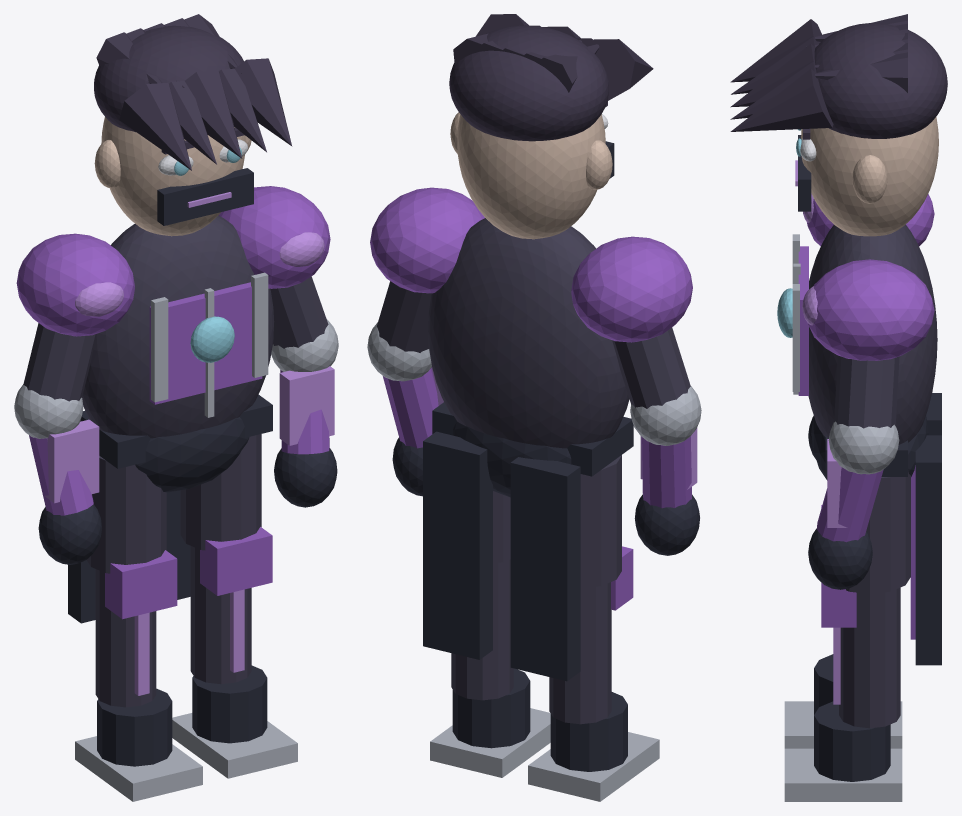
The model's file is kairo.glb.
3 views of the same model, side by side, from view 1: azimuth 30°, elevation 25°; view 2: azimuth 150°, elevation 25°; view 3: azimuth 270°, elevation 25° (orthographic). The views are drawn at different scales.
Parts seen in each view (by area): view 1: JacketTorso, Shoulder_L, HairCap, ChestPanel, Head, Thigh_L, Shoulder_R, Thigh_R, Pelvis, Shin_L, Shin_R, Boot_R (+34 smaller); view 2: JacketTorso, CoatTail_L, CoatTail_R, HairCap, Head, Shoulder_L, Shoulder_R, Shin_L, Thigh_L, Shin_R, UpperArm_L, Boot_R (+18 smaller); view 3: HairCap, Shoulder_R, Head, JacketTorso, Shin_R, CoatTail_R, Thigh_R, Boot_R, UpperArm_R, BootSole_R, FrontHairSpike4, Elbow_R (+23 smaller).
Boxes of the visible parts, bbox=[...] form: JacketTorso: bbox=[82, 215, 274, 438]; Shoulder_L: bbox=[16, 233, 134, 336]; HairCap: bbox=[94, 25, 243, 132]; ChestPanel: bbox=[149, 282, 262, 404]; Head: bbox=[101, 117, 245, 236]; Thigh_L: bbox=[87, 456, 166, 573]; Shoulder_R: bbox=[218, 186, 330, 288]; Thigh_R: bbox=[180, 434, 261, 550]; Pelvis: bbox=[135, 417, 249, 492]; Shin_L: bbox=[95, 569, 156, 707]; Shin_R: bbox=[190, 546, 251, 684]; Boot_R: bbox=[192, 665, 267, 743]; JacketTorso: bbox=[428, 218, 629, 448]; CoatTail_L: bbox=[510, 457, 580, 681]; CoatTail_R: bbox=[423, 431, 492, 659]; HairCap: bbox=[449, 25, 608, 141]; Head: bbox=[457, 114, 605, 239]; Shoulder_L: bbox=[571, 236, 692, 342]; Shoulder_R: bbox=[370, 187, 484, 293]; Shin_L: bbox=[549, 582, 611, 724]; Thigh_L: bbox=[580, 455, 621, 588]; Shin_R: bbox=[451, 559, 513, 700]; UpperArm_L: bbox=[612, 327, 690, 408]; Boot_R: bbox=[452, 668, 530, 748]; HairCap: bbox=[814, 23, 947, 138]; Shoulder_R: bbox=[808, 259, 934, 360]; Head: bbox=[801, 117, 938, 236]; JacketTorso: bbox=[808, 224, 937, 444]; Shin_R: bbox=[839, 587, 900, 728]; CoatTail_R: bbox=[915, 435, 941, 665]; Thigh_R: bbox=[846, 471, 910, 593]; Boot_R: bbox=[814, 701, 890, 781]; UpperArm_R: bbox=[834, 355, 899, 428]; BootSole_R: bbox=[784, 748, 902, 801]; FrontHairSpike4: bbox=[730, 69, 833, 131]; Elbow_R: bbox=[828, 421, 899, 474].
Bounding box in the file's own units: 1.26 × 2.73 × 0.7402.
